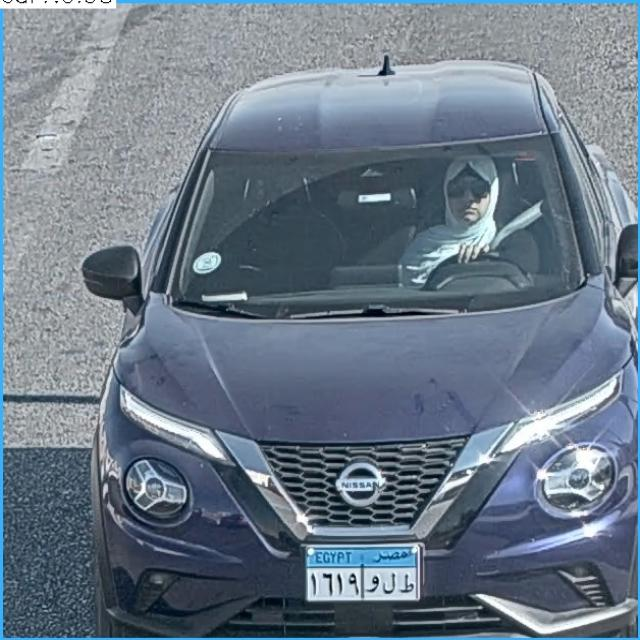windshield: (159, 145, 584, 287)
